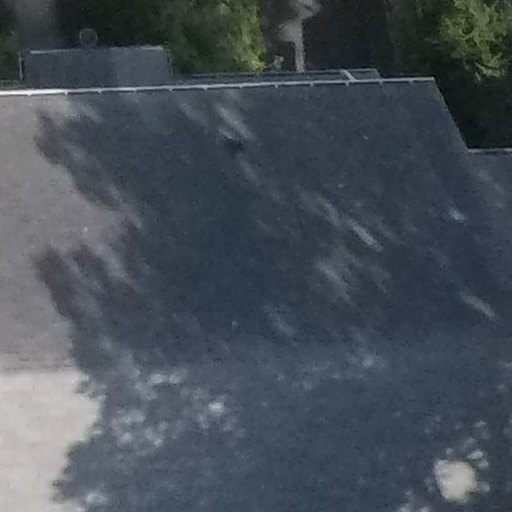container: (78, 24, 101, 49)
